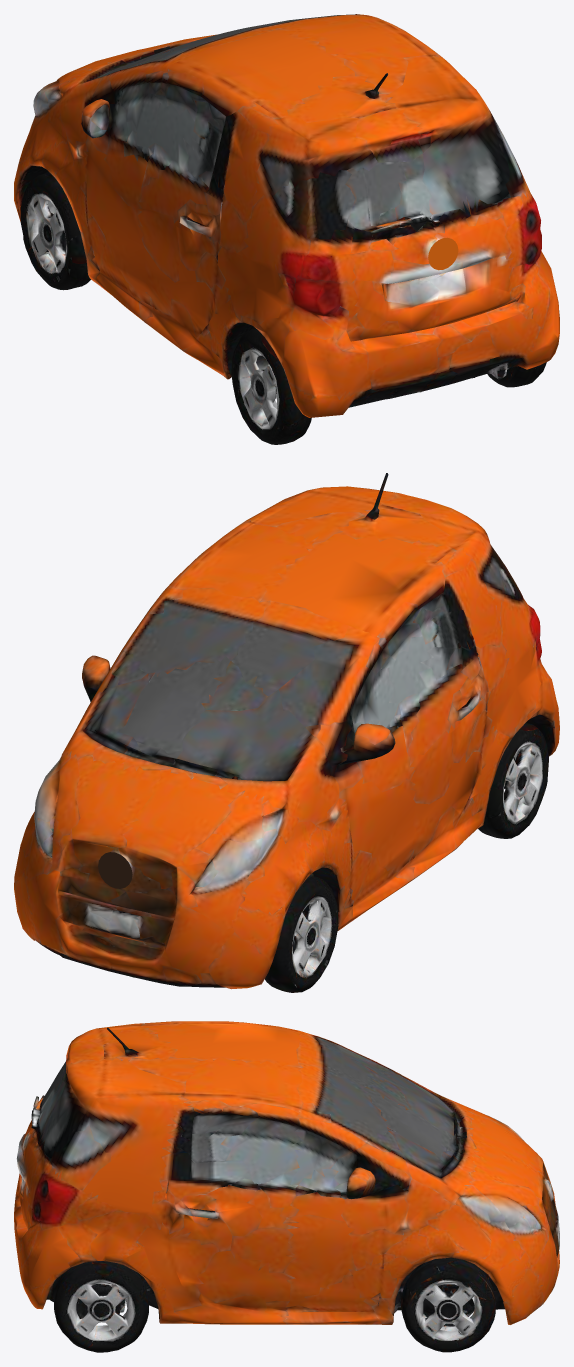
File: teleopVehHatch.67925e22.glb
The picture shows the model from 3 angles, top to bottom: view 1: azimuth 30°, elevation 25°; view 2: azimuth 150°, elevation 25°; view 3: azimuth 270°, elevation 25°; orthographic projection. The views are drawn at different scales.
Bounding box in the file's own units: 1.02 × 1.06 × 1.9.
Materials: 3 (1 with a texture image).
